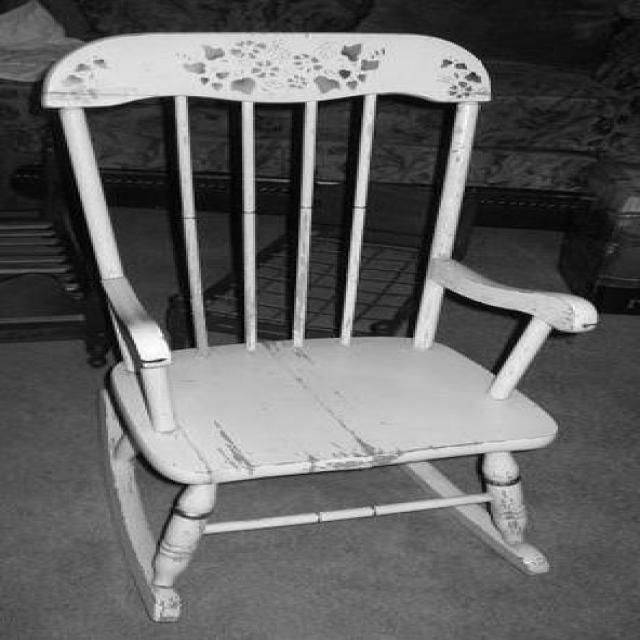chair: (38, 31, 601, 624)
